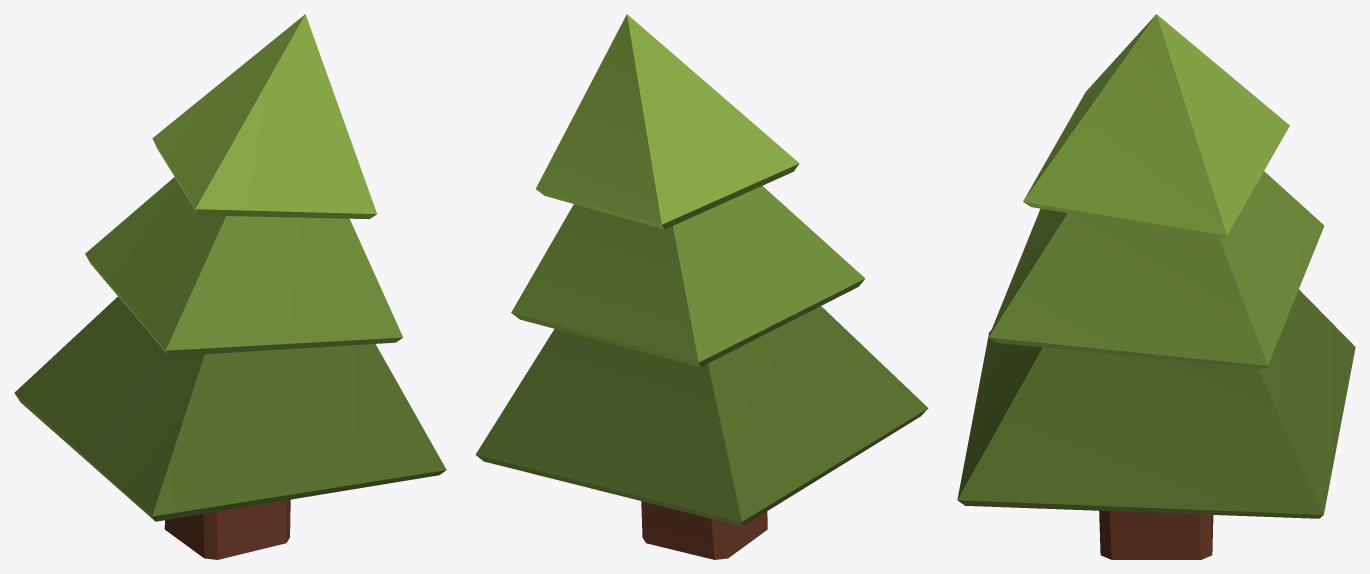
The model's file is SM_Pine_02.fbx.
3 views of the same model, side by side, from view 1: azimuth 30°, elevation 25°; view 2: azimuth 150°, elevation 25°; view 3: azimuth 270°, elevation 25° (orthographic). The views are drawn at different scales.
Visible parts, largest first — view 1: SM_Pine_02; view 2: SM_Pine_02; view 3: SM_Pine_02.
Part boxes in pixels (x1,y1,x2,y2): SM_Pine_02: (14,14,446,559); SM_Pine_02: (475,14,928,559); SM_Pine_02: (957,14,1355,559).
Size of the model in its own units: 19.17 by 30.06 by 19.19.
